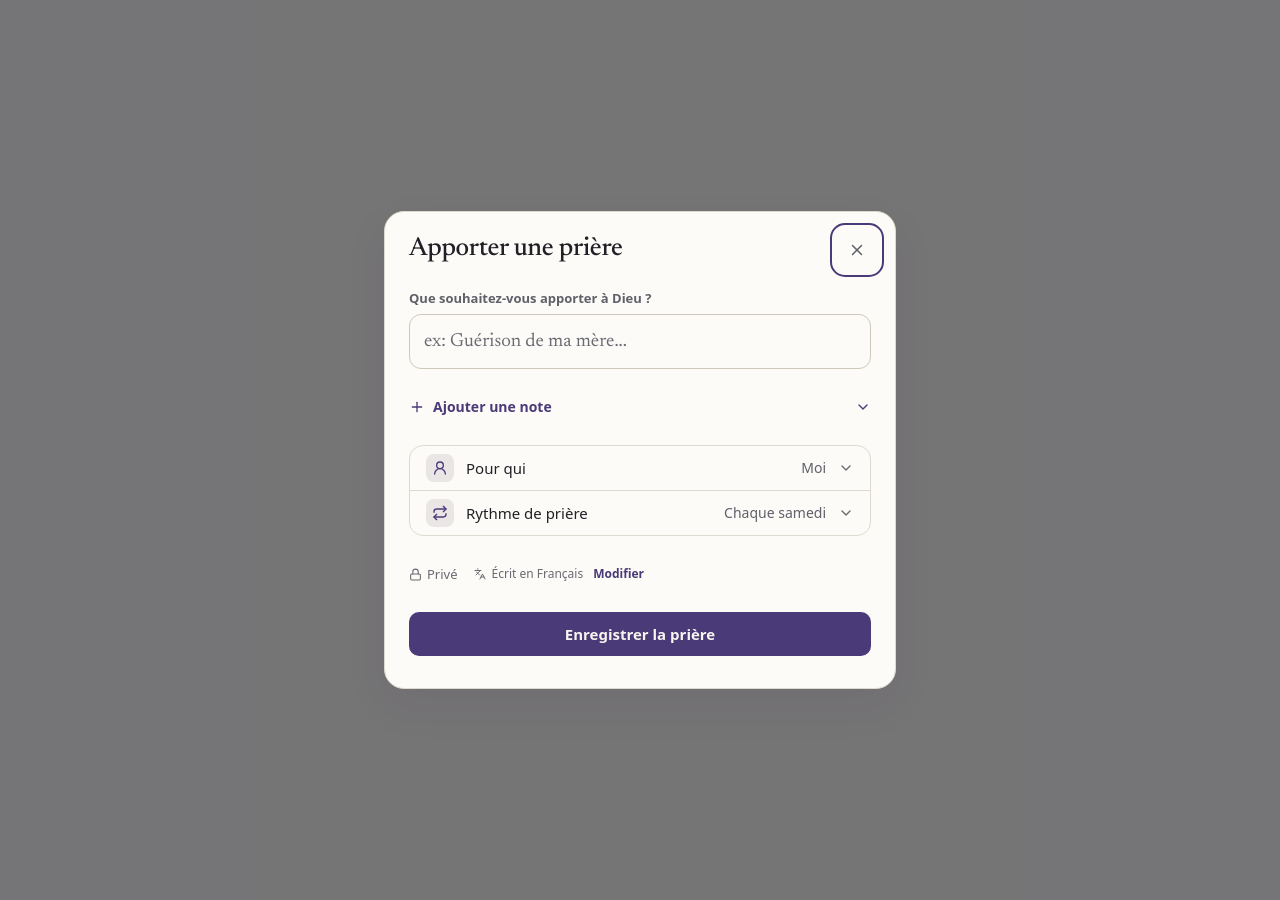
PrayerForm — the default rhythm is visible before saving › opens the real control from the same row that states the rhythm
The image size is (1280, 900).
Click the button "Rythme de prière Chaque samedi": [527, 513] box [410,491,870,535]
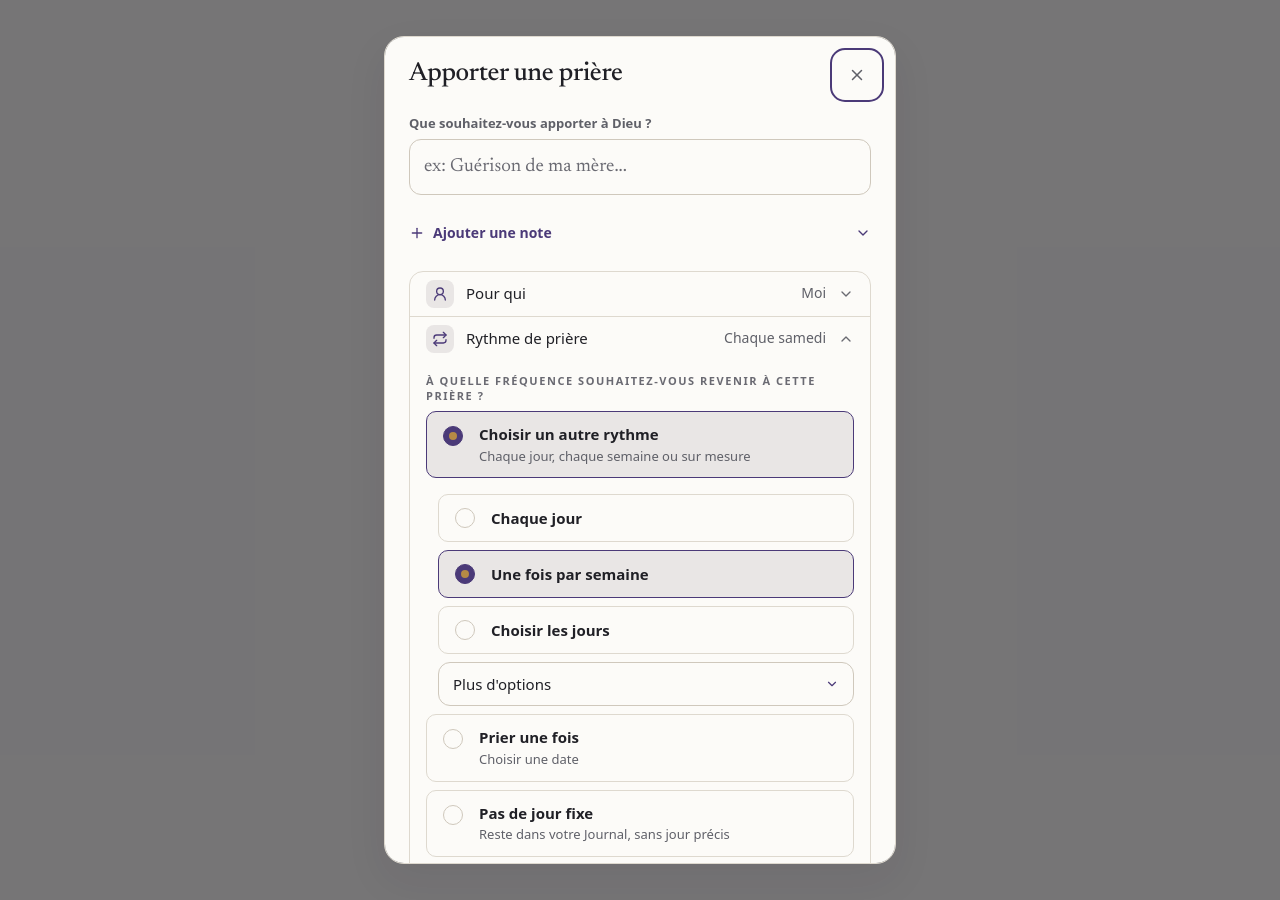
expect the button "Rythme de prière Chaque samedi" is expanded: met, box [410,317,870,361]
